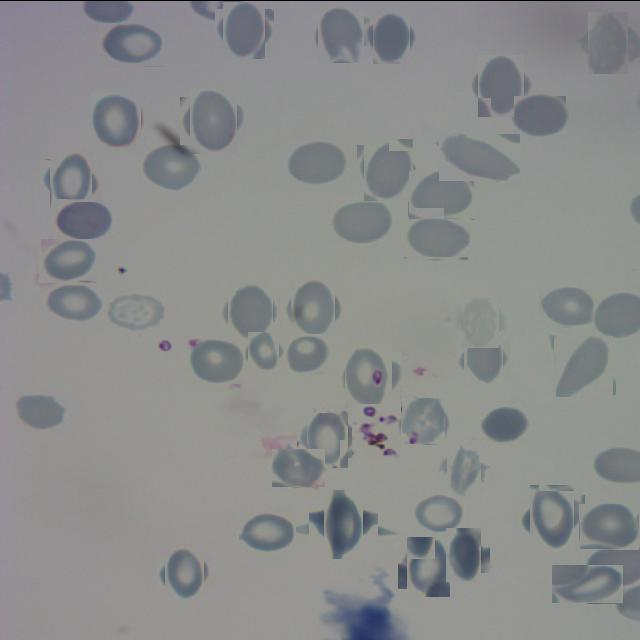leukocyte: (439, 133, 520, 180), (555, 336, 615, 395), (408, 169, 474, 219), (184, 92, 242, 148), (140, 140, 203, 191), (341, 346, 397, 403), (524, 488, 580, 544), (361, 141, 416, 197), (285, 139, 350, 186), (332, 196, 398, 242), (404, 216, 472, 260), (316, 496, 371, 550), (90, 93, 144, 147), (474, 59, 528, 112), (100, 22, 165, 66), (224, 284, 276, 338), (551, 564, 623, 603), (579, 503, 639, 549), (186, 338, 245, 384), (45, 154, 97, 206), (287, 282, 339, 334), (402, 540, 454, 592), (315, 8, 367, 60), (302, 410, 353, 462), (583, 16, 634, 68), (54, 198, 114, 242), (40, 238, 98, 282), (220, 4, 270, 54), (44, 282, 105, 322), (238, 512, 296, 554), (105, 292, 165, 332), (411, 492, 466, 534), (160, 549, 208, 597), (459, 334, 506, 382), (12, 391, 68, 431), (540, 286, 594, 326), (368, 14, 414, 59), (401, 397, 446, 443), (272, 448, 325, 486), (441, 532, 486, 576), (478, 406, 530, 444), (514, 95, 566, 133), (442, 448, 486, 492), (458, 300, 502, 344), (284, 333, 330, 374), (246, 332, 282, 368)
ring: (352, 403, 401, 458)
